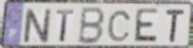B: (76, 6, 106, 46)
C: (106, 9, 133, 43)
E: (132, 8, 160, 45)
N: (23, 8, 53, 45)
T: (165, 8, 187, 44), (55, 9, 76, 44)
